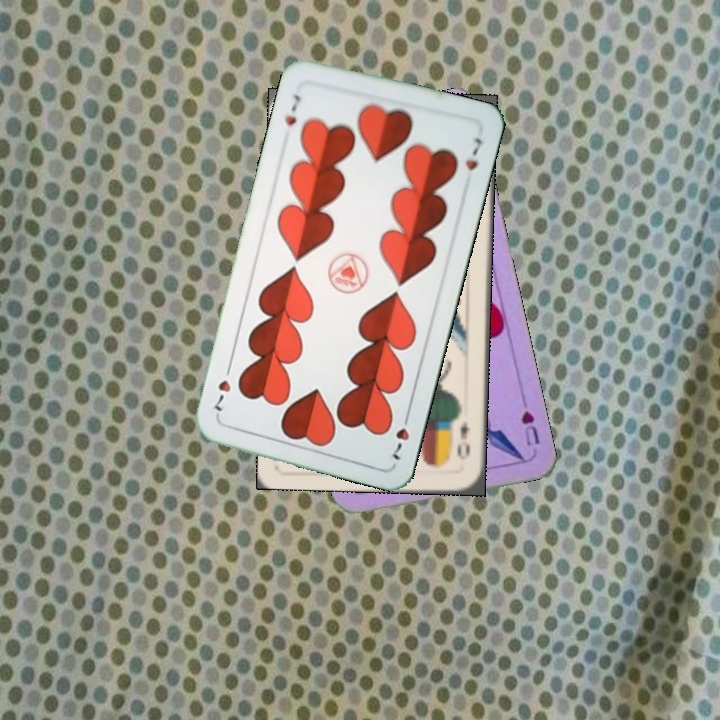EO: (453, 417, 473, 462)
H7: (388, 407, 412, 463), (280, 90, 304, 129)
HU: (517, 406, 543, 449)
